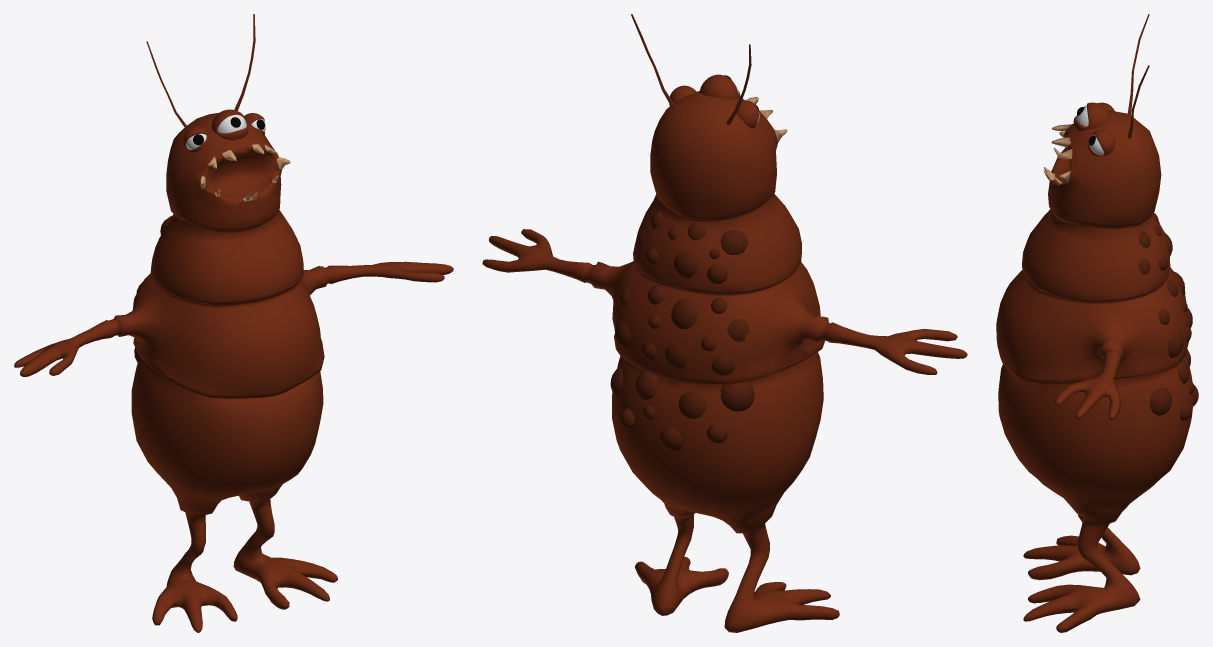
Rendered from LAVA_WOODLOUSE_with_tendril_00I.fbx.
3 renders of one model, left to right at view 1: azimuth 30°, elevation 25°; view 2: azimuth 150°, elevation 25°; view 3: azimuth 270°, elevation 25°, orthographic. The views are drawn at different scales.
Visible parts, largest first — view 1: LAVA_WOODLOUSE_00I; view 2: LAVA_WOODLOUSE_00I; view 3: LAVA_WOODLOUSE_00I.
Part boxes in pixels (x1=…): LAVA_WOODLOUSE_00I: x1=14, y1=14, x2=453, y2=632; LAVA_WOODLOUSE_00I: x1=482, y1=14, x2=967, y2=632; LAVA_WOODLOUSE_00I: x1=996, y1=14, x2=1198, y2=632.
Bounding box in the file's own units: 1.61 × 1.95 × 0.6479.
